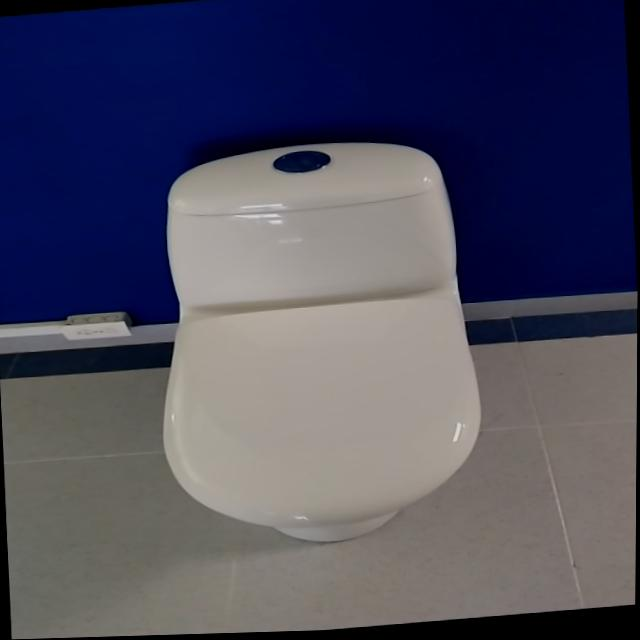toilet: (146, 132, 492, 557)
